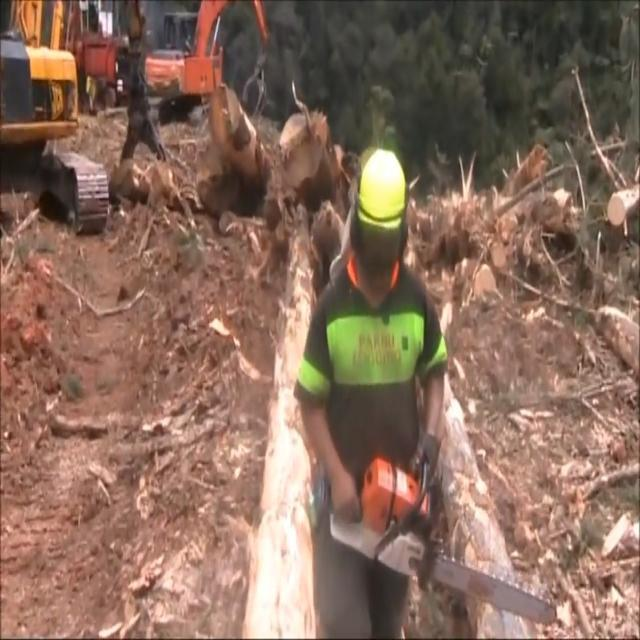Chainsaw: (321, 423, 558, 640)
